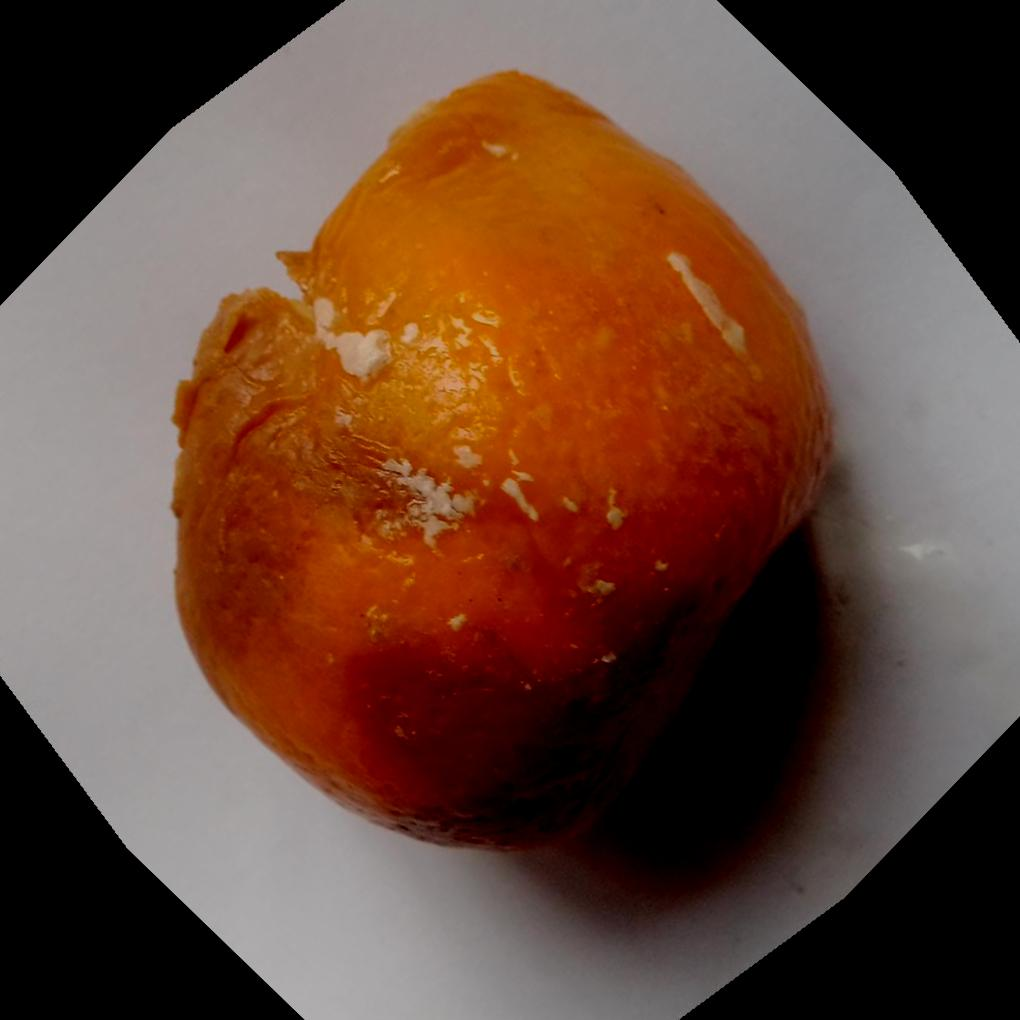FreshOrange: (165, 64, 833, 853)
